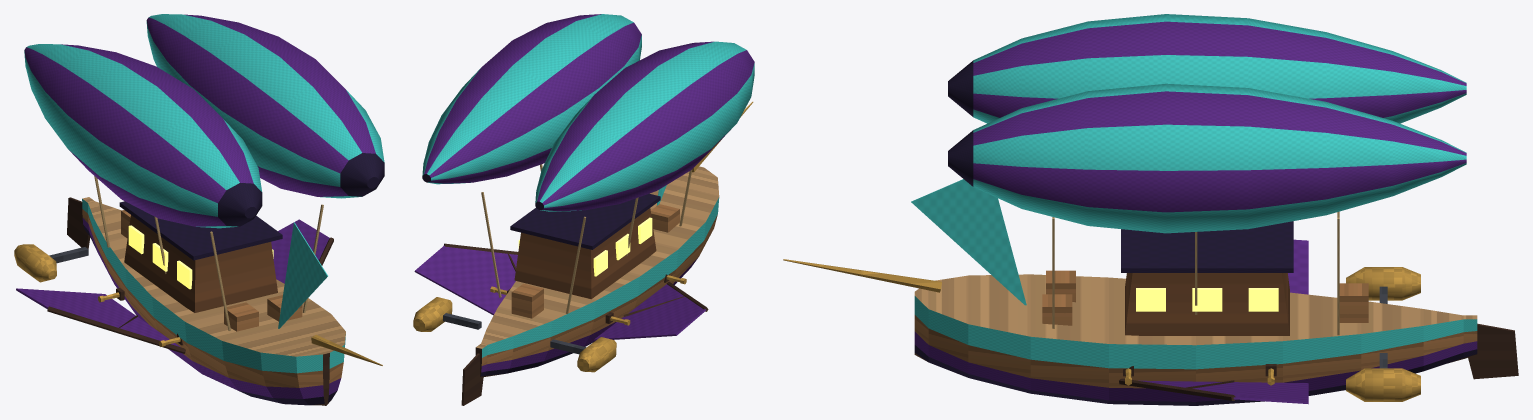
The model's file is SM_Ship_SmugglerRunner_HQ.glb.
3 renders of one model, left to right at view 1: azimuth 30°, elevation 25°; view 2: azimuth 150°, elevation 25°; view 3: azimuth 270°, elevation 25°, orthographic. The views are drawn at different scales.
Parts seen in each view (by area): view 1: SM_Ship_SmugglerRunner_HQ; view 2: SM_Ship_SmugglerRunner_HQ; view 3: SM_Ship_SmugglerRunner_HQ.
Boxes of the visible parts, x1,y1,x2,y2 form: SM_Ship_SmugglerRunner_HQ: (14, 14, 384, 405); SM_Ship_SmugglerRunner_HQ: (413, 14, 754, 405); SM_Ship_SmugglerRunner_HQ: (783, 14, 1518, 405).
Size of the model in its own units: 10.32 by 9.98 by 19.6.
1 material, 1 textured.
